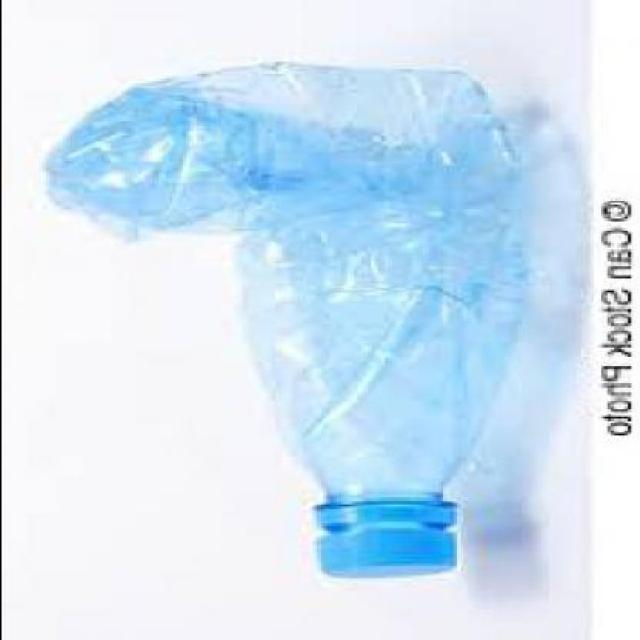PLASTIC: (34, 59, 520, 573), (311, 499, 455, 573)
